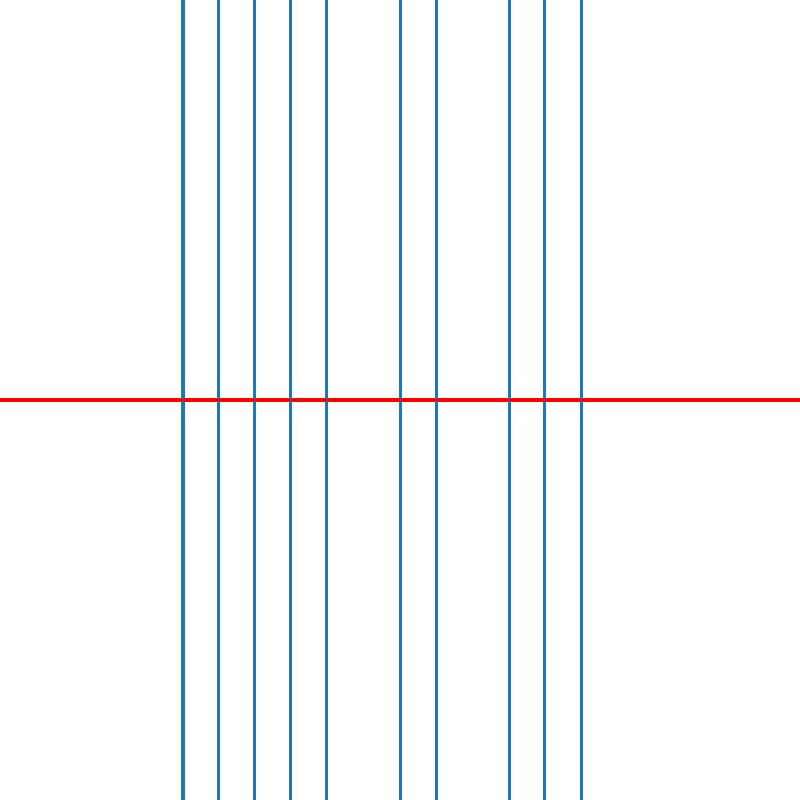root: (541, 396, 549, 404), (250, 396, 258, 404), (432, 396, 440, 404), (323, 396, 330, 404), (178, 396, 185, 404), (578, 396, 585, 404), (287, 396, 294, 404), (505, 396, 512, 404), (396, 396, 403, 404), (214, 396, 221, 404)
